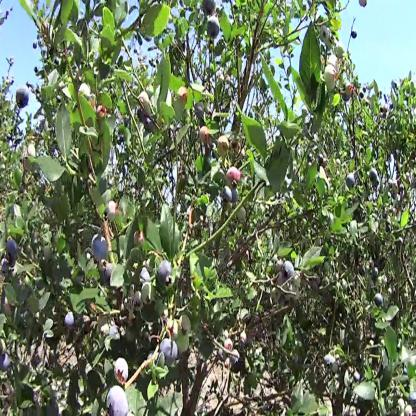intermediate: (113, 359, 129, 383), (324, 65, 337, 91), (227, 169, 240, 186), (133, 231, 146, 248), (179, 87, 189, 108), (107, 201, 118, 218), (98, 104, 108, 122), (167, 319, 177, 335), (201, 127, 210, 143), (345, 82, 353, 99), (225, 338, 233, 349)
mature: (106, 386, 128, 415), (161, 337, 179, 360), (157, 263, 173, 288), (93, 235, 107, 260), (16, 87, 32, 106), (6, 240, 18, 262), (207, 17, 220, 36), (282, 260, 294, 280), (104, 265, 116, 284), (203, 1, 216, 15), (1, 355, 12, 370), (221, 185, 231, 201), (375, 291, 384, 307), (66, 312, 75, 327), (141, 268, 150, 282), (196, 104, 204, 119), (348, 173, 356, 188), (231, 352, 240, 365), (371, 167, 377, 182), (233, 188, 238, 203), (373, 267, 379, 277), (354, 372, 360, 381), (353, 29, 357, 41), (319, 154, 323, 164), (34, 43, 37, 51), (400, 184, 403, 192)
young: (143, 283, 155, 305), (79, 84, 92, 102), (217, 139, 229, 158), (179, 317, 191, 334), (133, 292, 143, 311), (330, 55, 339, 75), (139, 91, 148, 111), (238, 208, 247, 223), (396, 395, 404, 411), (272, 287, 281, 300), (240, 331, 248, 345), (101, 324, 109, 337), (181, 337, 189, 350), (27, 146, 36, 157), (381, 274, 387, 282), (342, 279, 347, 287), (394, 183, 398, 193)
